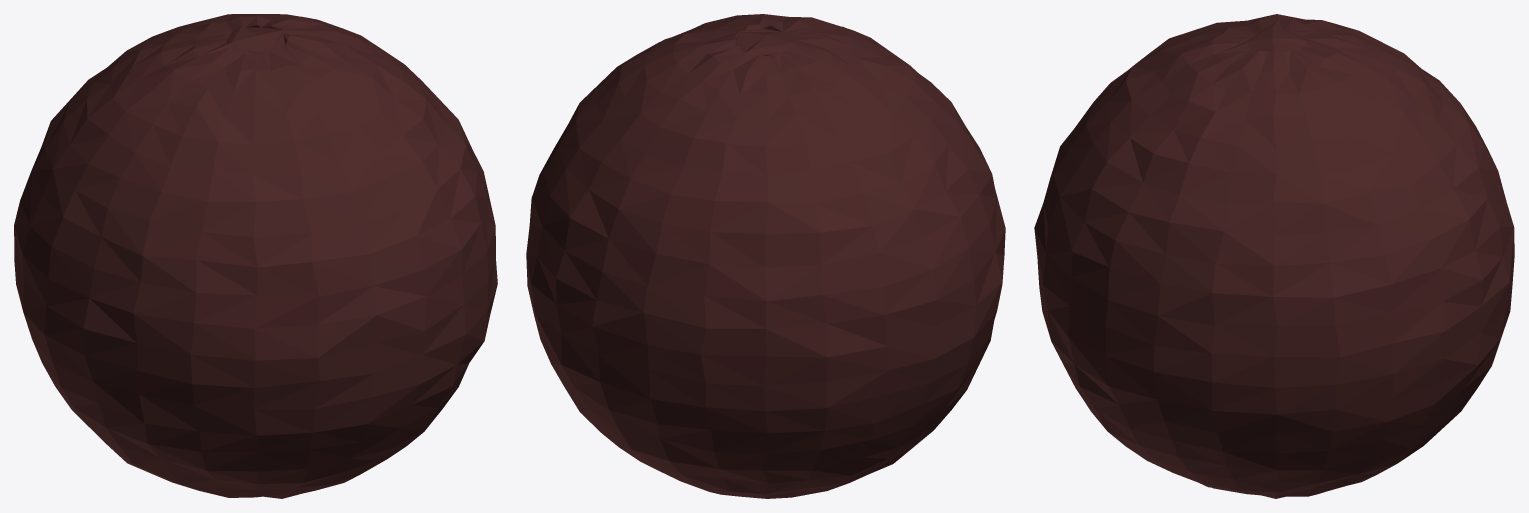
File: tumorBrown1.dae
3 renders of one model, left to right at view 1: azimuth 30°, elevation 25°; view 2: azimuth 150°, elevation 25°; view 3: azimuth 270°, elevation 25°, orthographic.
Parts seen in each view (by area): view 1: sphere; view 2: sphere; view 3: sphere.
Boxes of the visible parts, x1=… form: sphere: x1=14, y1=14, x2=497, y2=498; sphere: x1=526, y1=14, x2=1005, y2=498; sphere: x1=1034, y1=14, x2=1514, y2=498.
Bounding box in the file's own units: 8 × 7.99 × 8.05.
